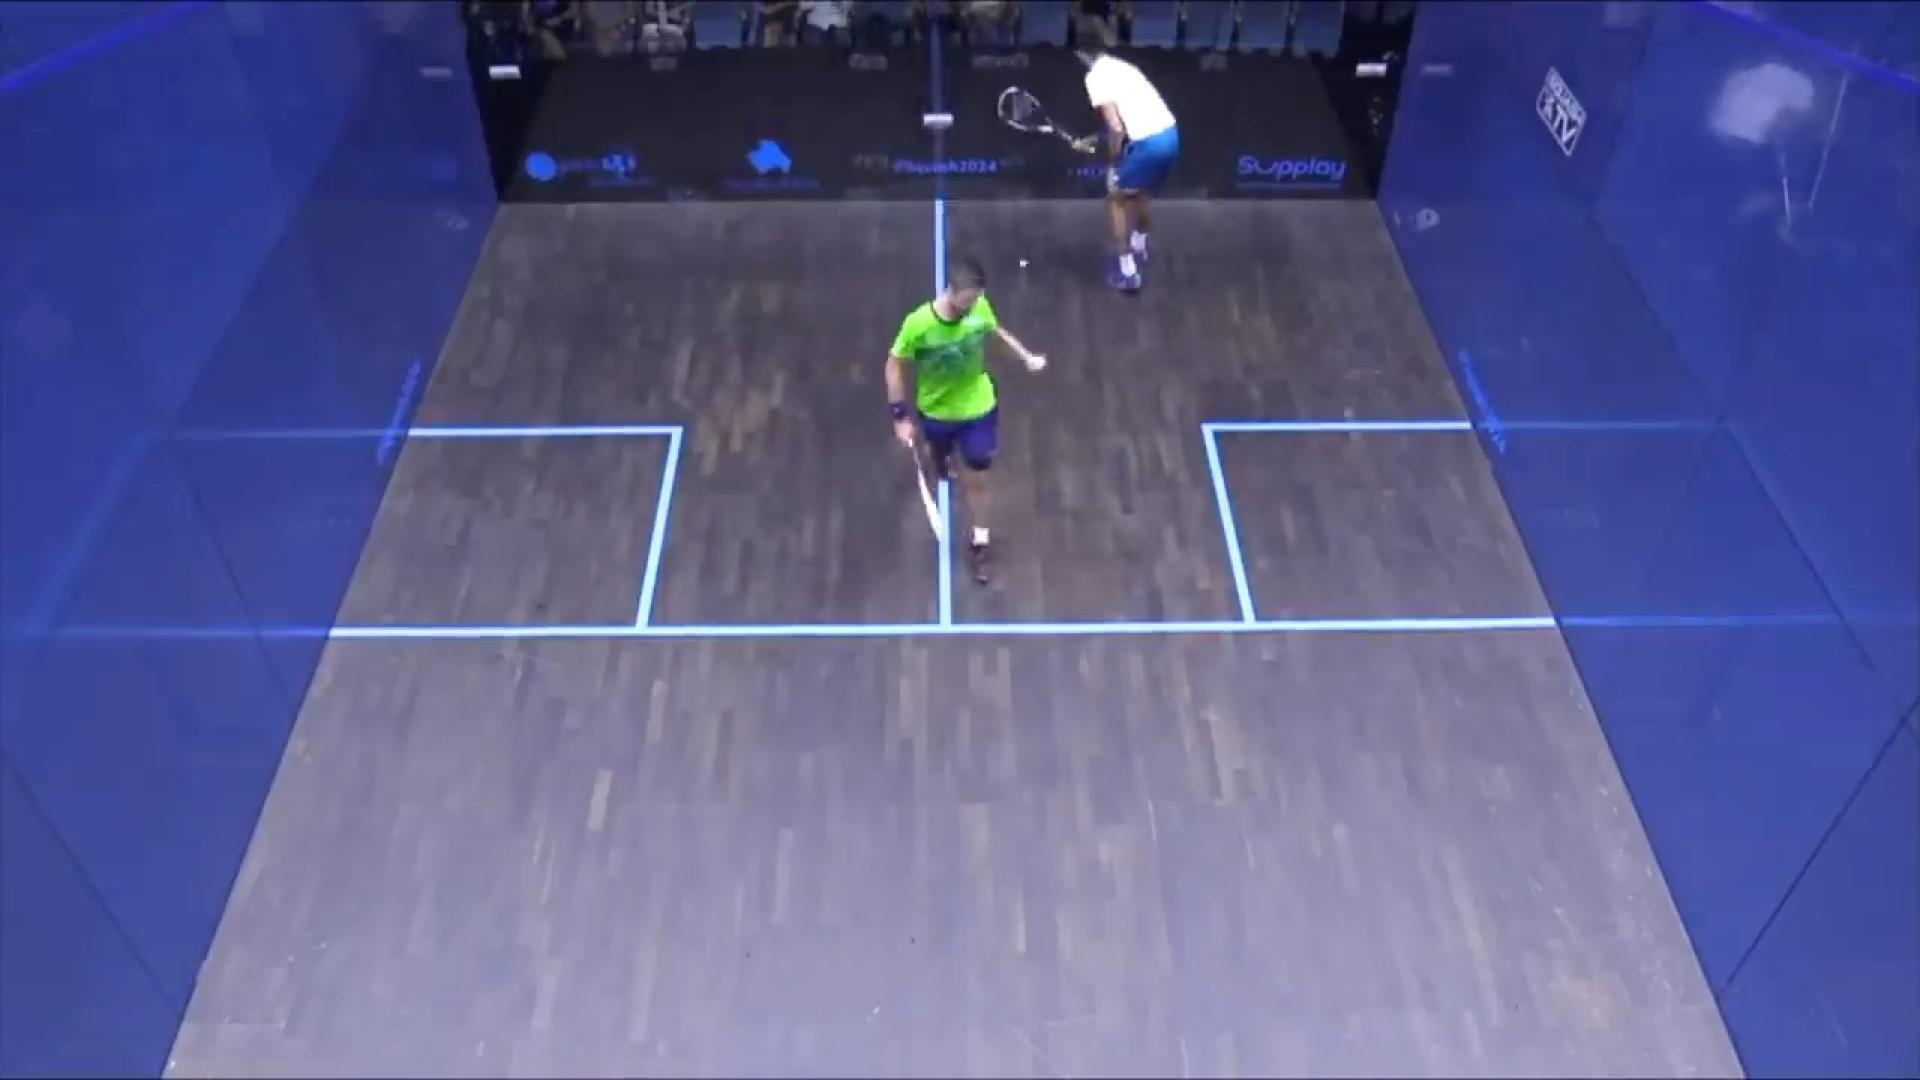Squash-Ball: (1010, 247, 1038, 280)
